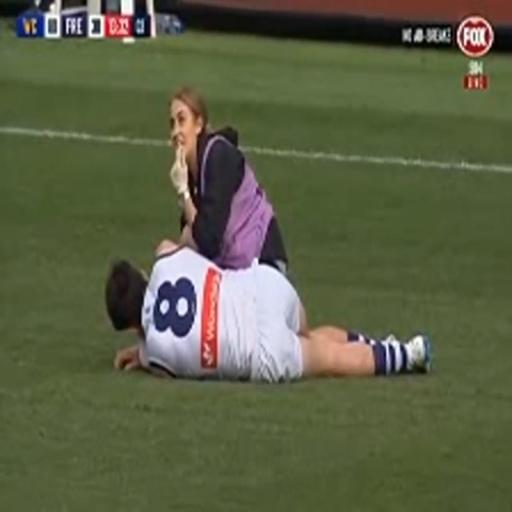nao-violencia: (87, 75, 450, 393)
